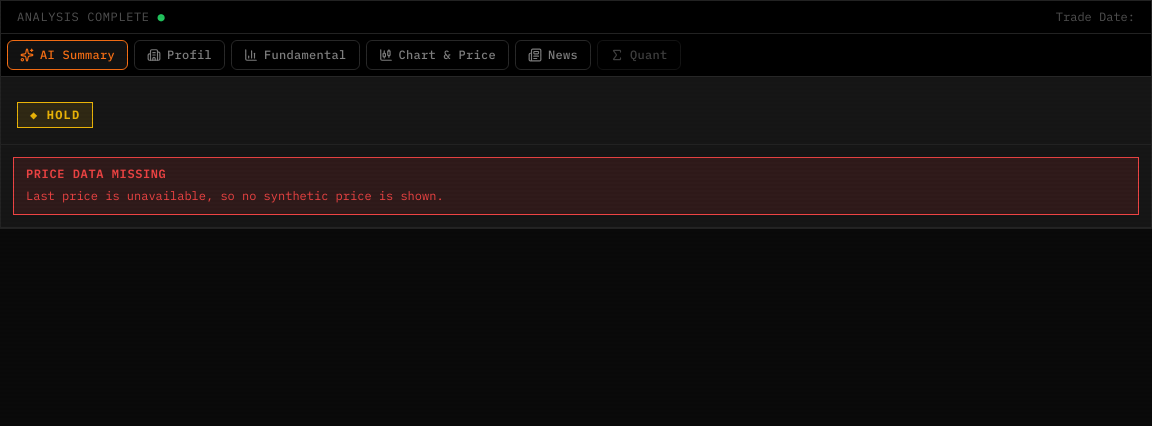
Scenario: ResultCard risk-engine contract › does not render a clickable News source for an unsafe URL
Click the tab "News": (553, 55) [515,40,591,70]
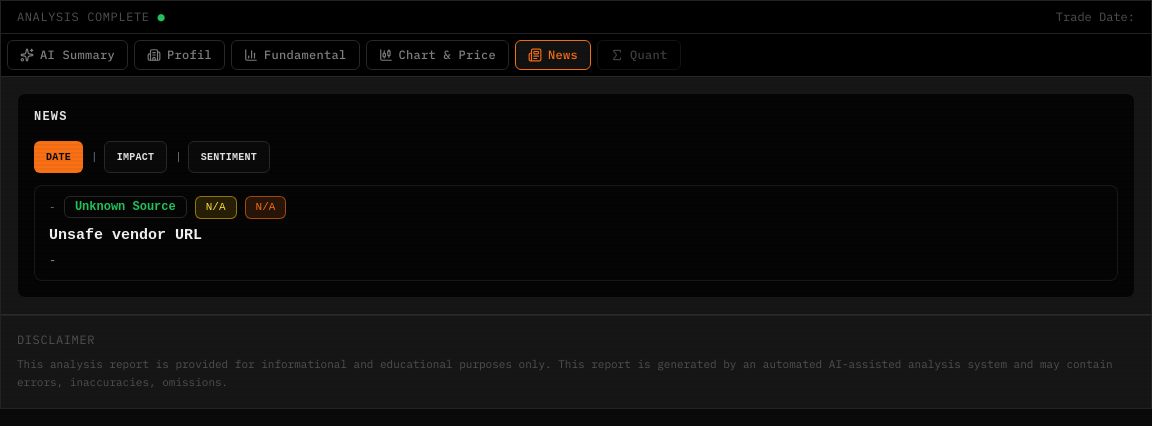
Now the heading "Unsafe vendor URL" is shown, box [49,226,202,244]
